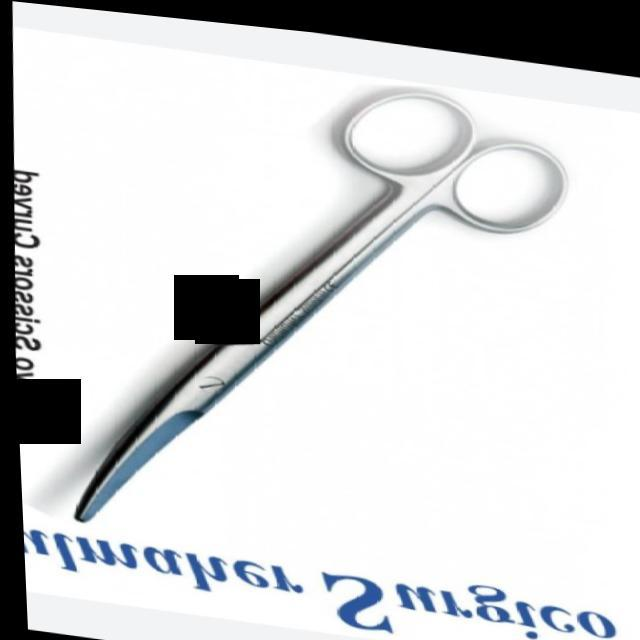Curved Mayo: (48, 34, 585, 582)
